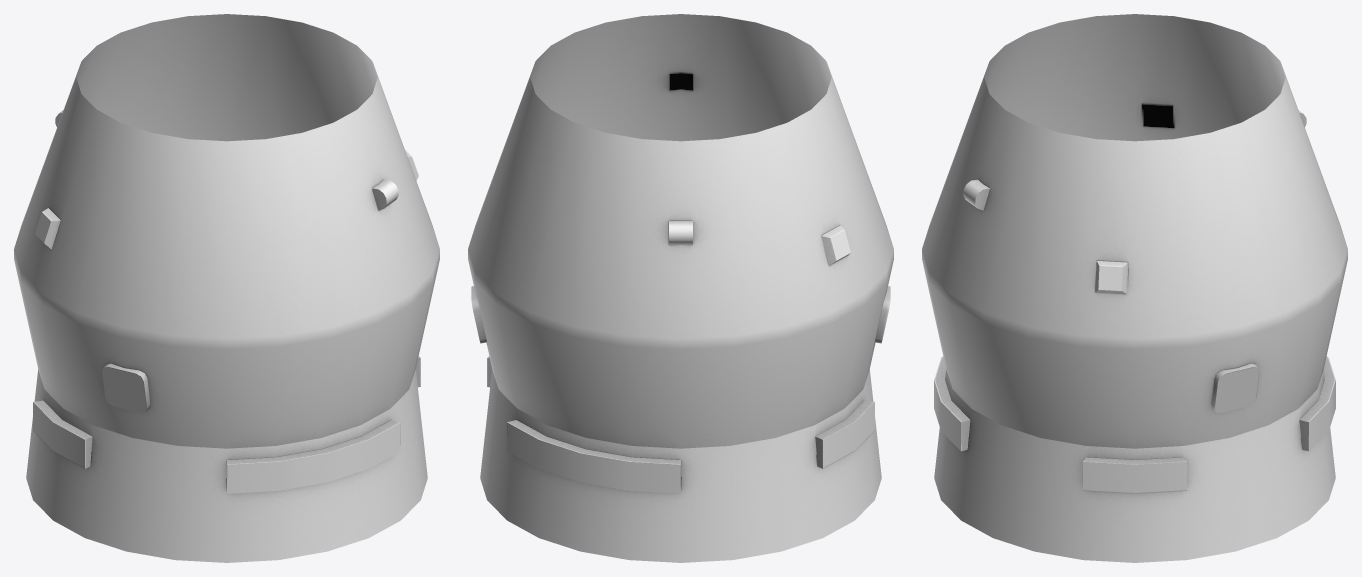
Rendered from hamal_avionics_s1_1_blanket.obj.
3 views of the same model, side by side, from view 1: azimuth 30°, elevation 25°; view 2: azimuth 150°, elevation 25°; view 3: azimuth 270°, elevation 25° (orthographic).
Visible parts, largest first — view 1: 1; view 2: 1; view 3: 1.
Part boxes in pixels (left/top/right/bottom): 1: left=14, top=14, right=439, bottom=562; 1: left=468, top=14, right=893, bottom=562; 1: left=922, top=14, right=1347, bottom=562.
Bounding box in the file's own units: 1.33 × 1.38 × 1.33.
Materials: 1 (1 with a texture image).
